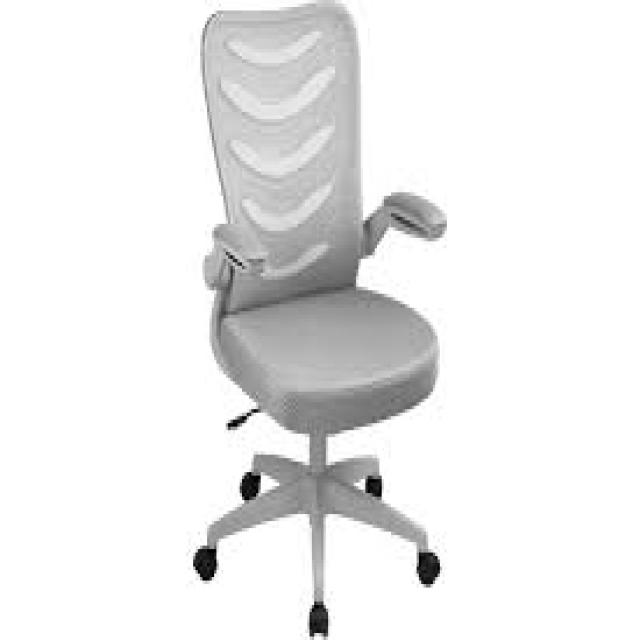chair: (153, 0, 495, 640)
